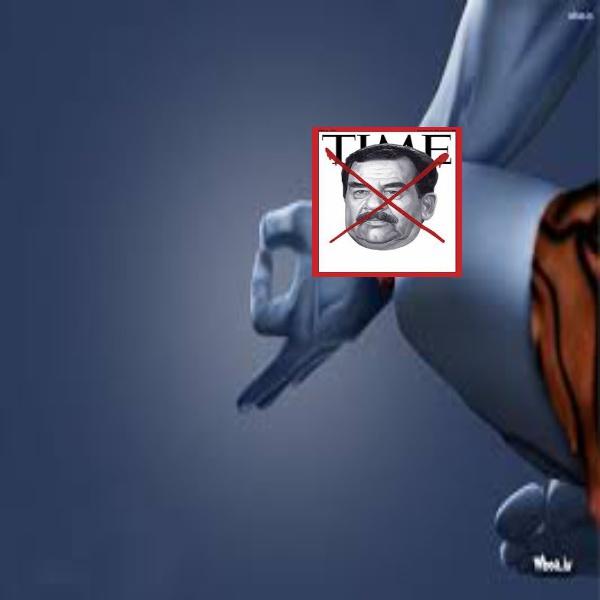time_cover: (310, 113, 466, 285)
